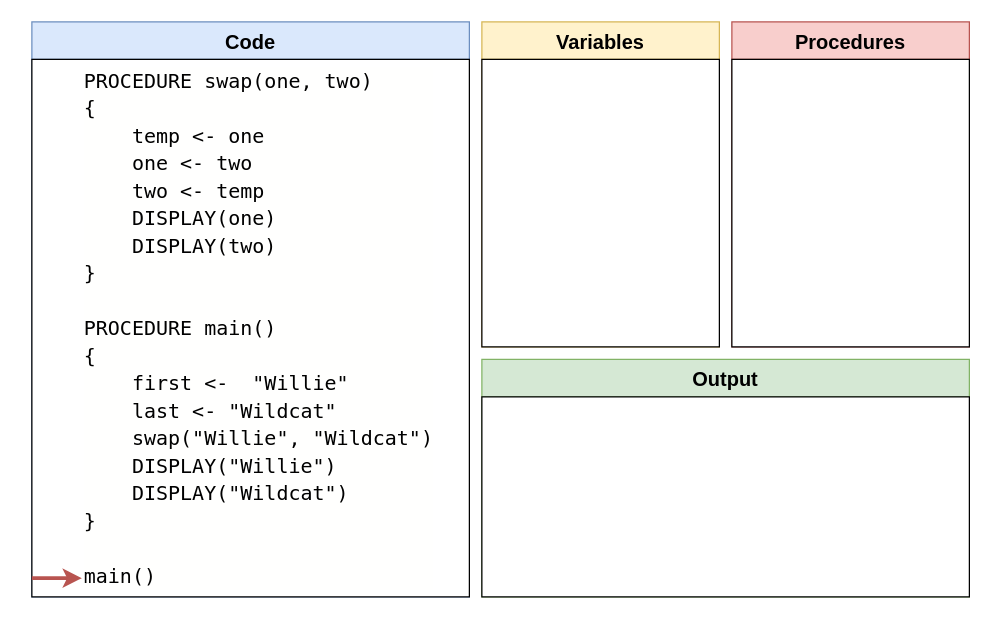
Some shapes in this 991 by 619 pixel diagram are drawn without their labels. Here are the shapes that lost their labels. From the top down, the centre of each, then its label:
(600,202): first = "Willie" last = "Wildcat"
(850,202): swap(one, two) main()
(725,496): WildcatWillieWillieWildcat
